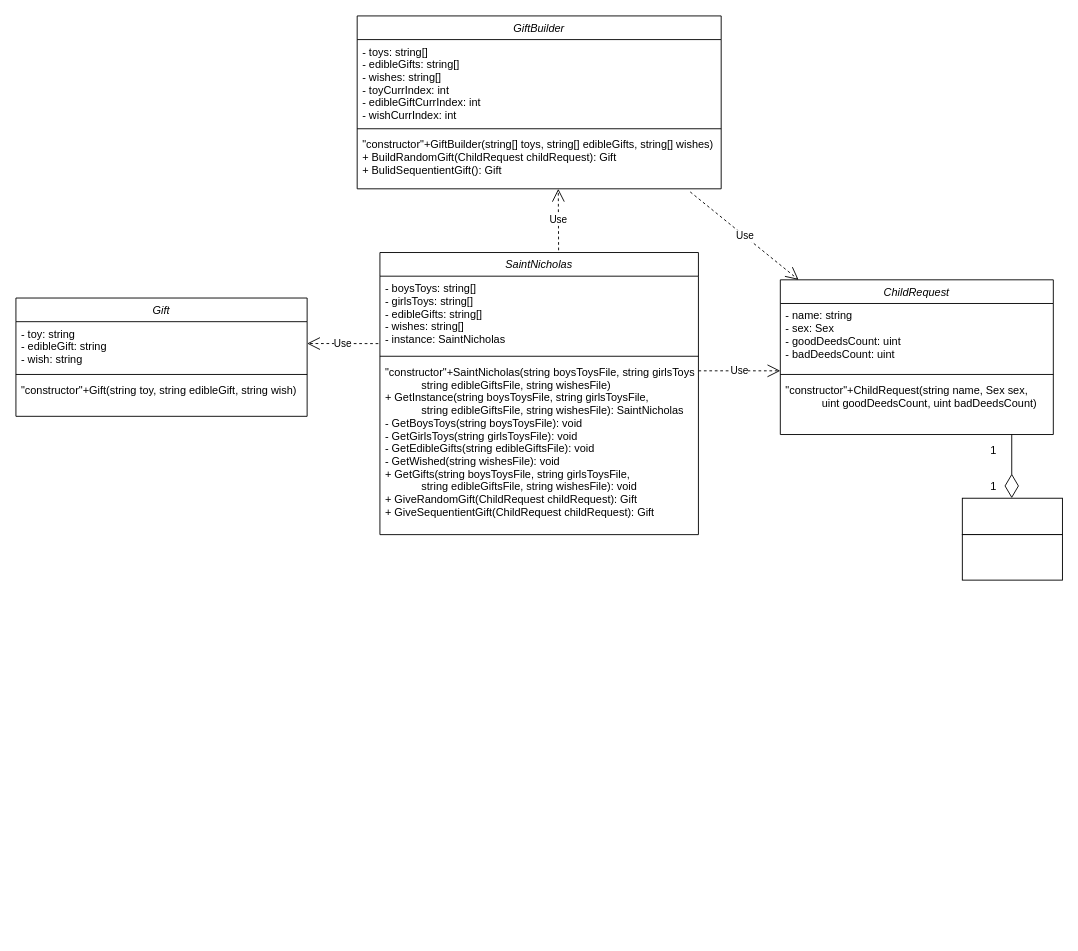
Image size: 1078x951. Some labels were removed from this diagram. Each missing label, with the centre of its shape:
"Male Female" belongs at (x=1011, y=557).
"«enumerator» Sex" belongs at (x=1011, y=516).
